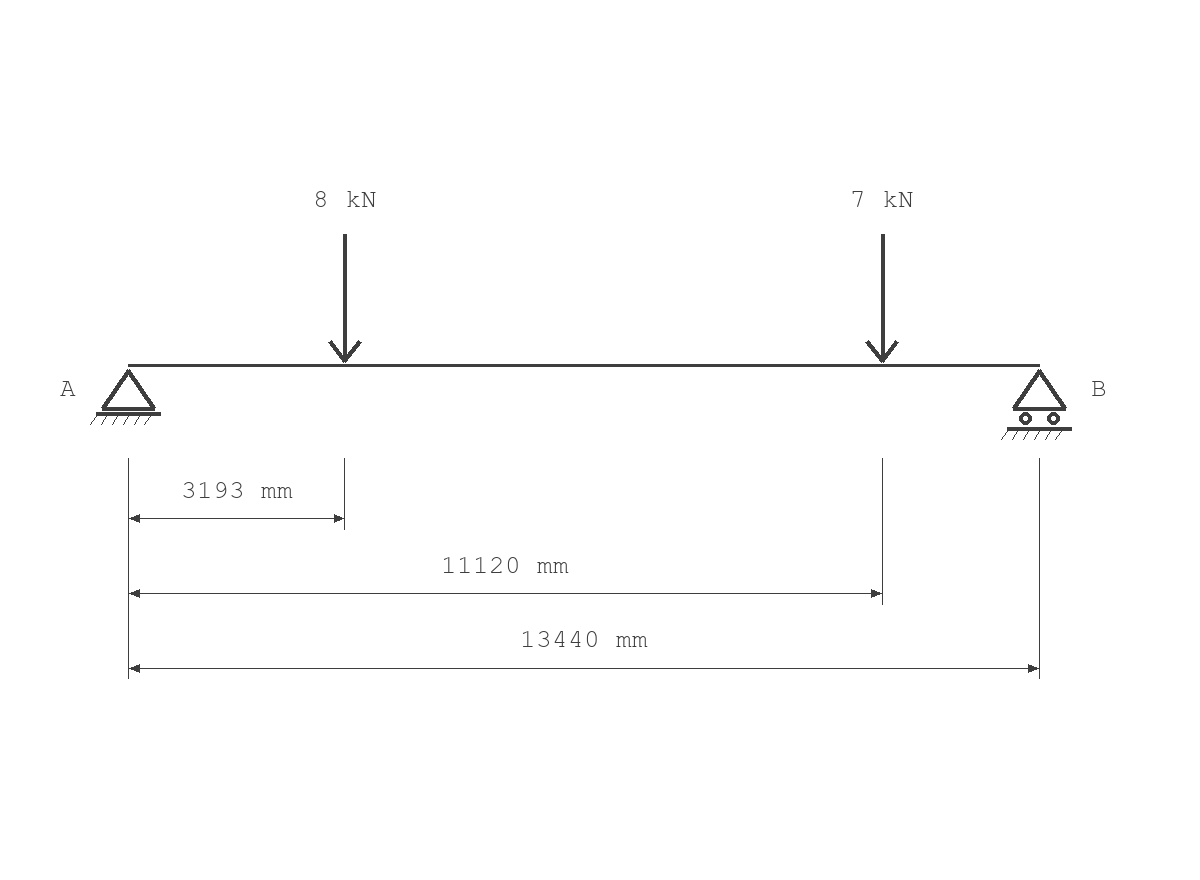pin_support: (90, 369, 161, 425)
point_load: (328, 234, 362, 363), (865, 234, 899, 363)
roller_support: (1001, 369, 1072, 440)
